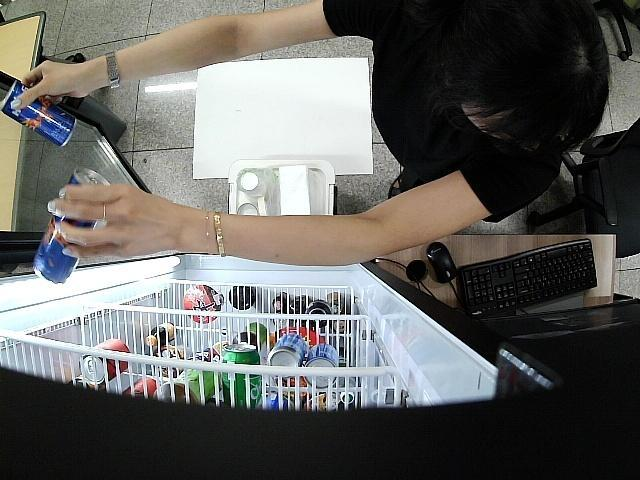16_hot6: (30, 167, 110, 285), (0, 80, 78, 150)
